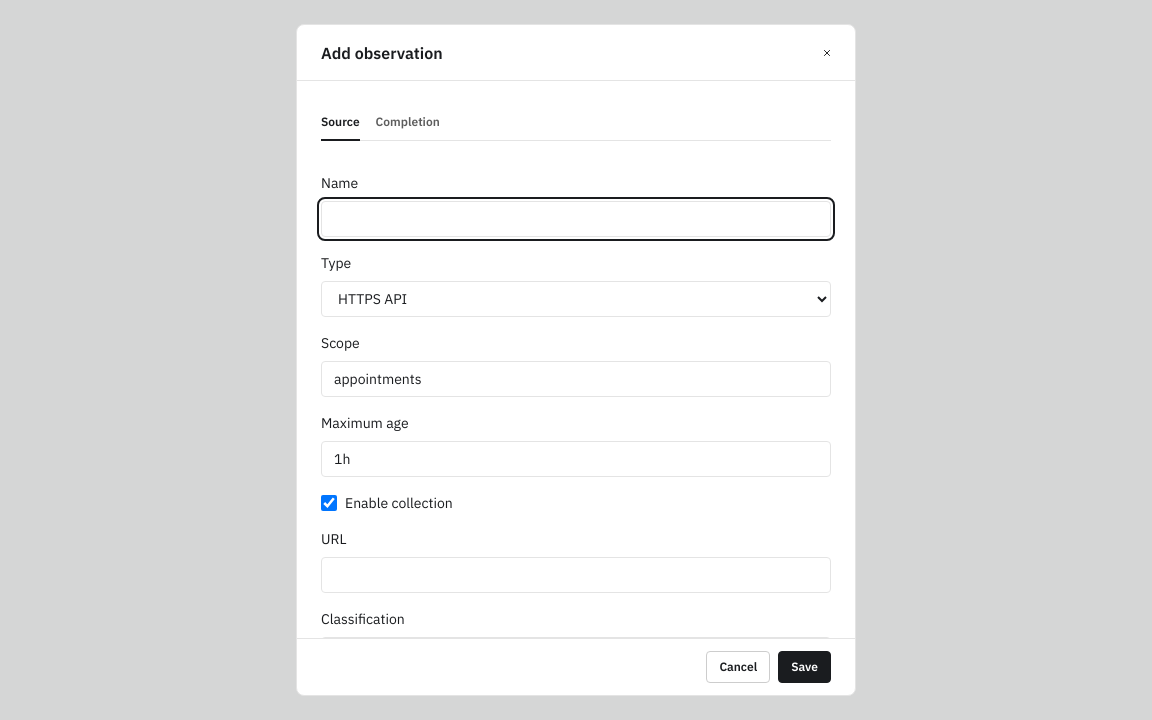
it: an HTTP JSON observation selects its page continuation from a local schema sample and keeps the full projection after refusal
Type "HTTP appointments" into the field labelled "Name".
click(576, 219); type("HTTP appointments")  # box [321,201,831,237]
(page scrolled)
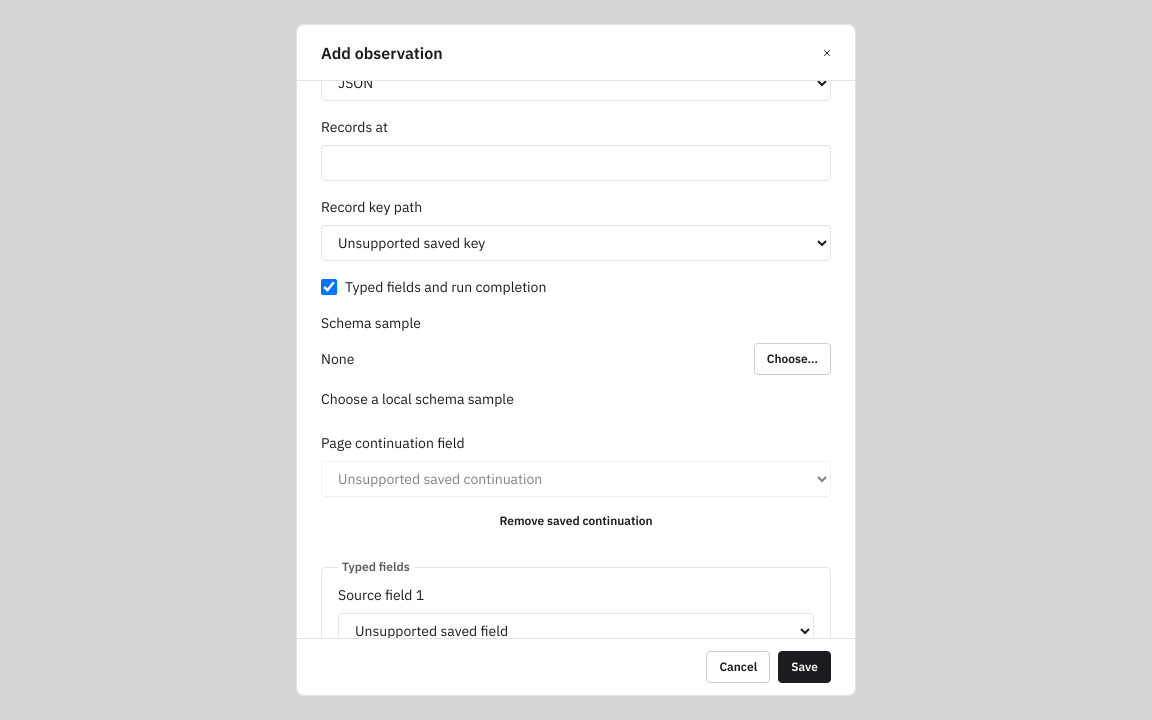
Now the dropdown labelled "Page continuation field" is shown, box [321,461,831,497]
Click the button with aria-label "Choose schema sample".
click(792, 359)  # box [754,343,831,375]
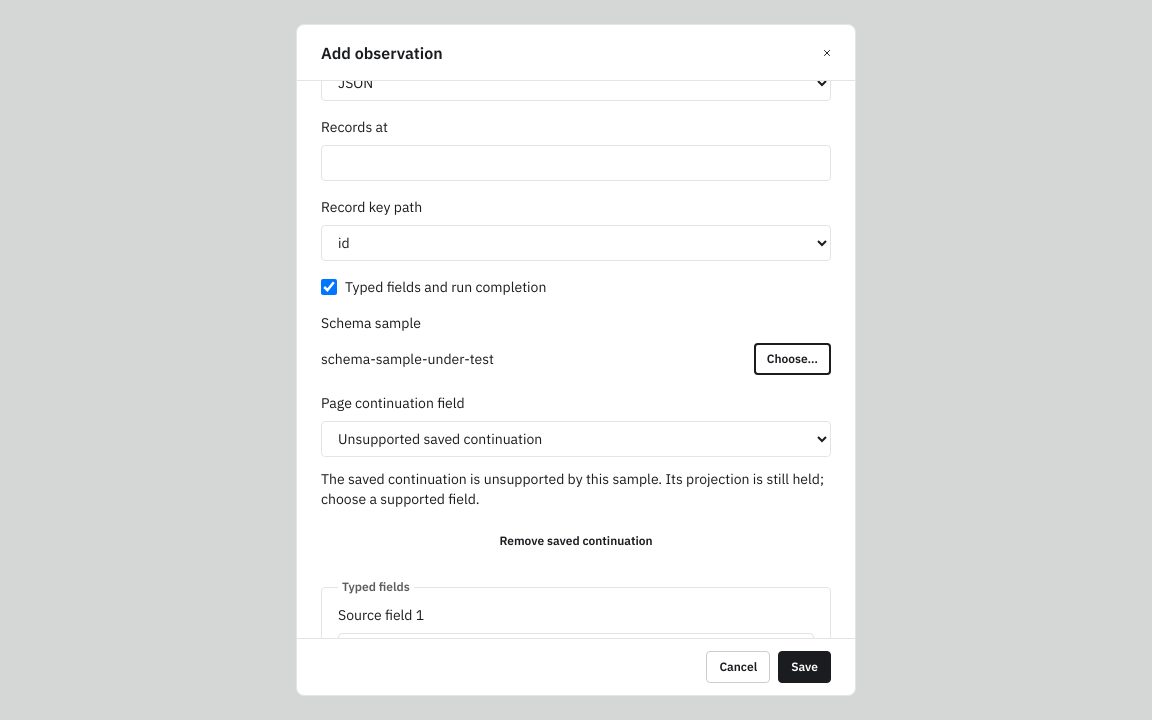
Expected: the option "next.with.dots" is not shown
Select "next.with.dots" in the dropdown labelled "Page continuation field" at (576, 439), box [321,421,831,457]
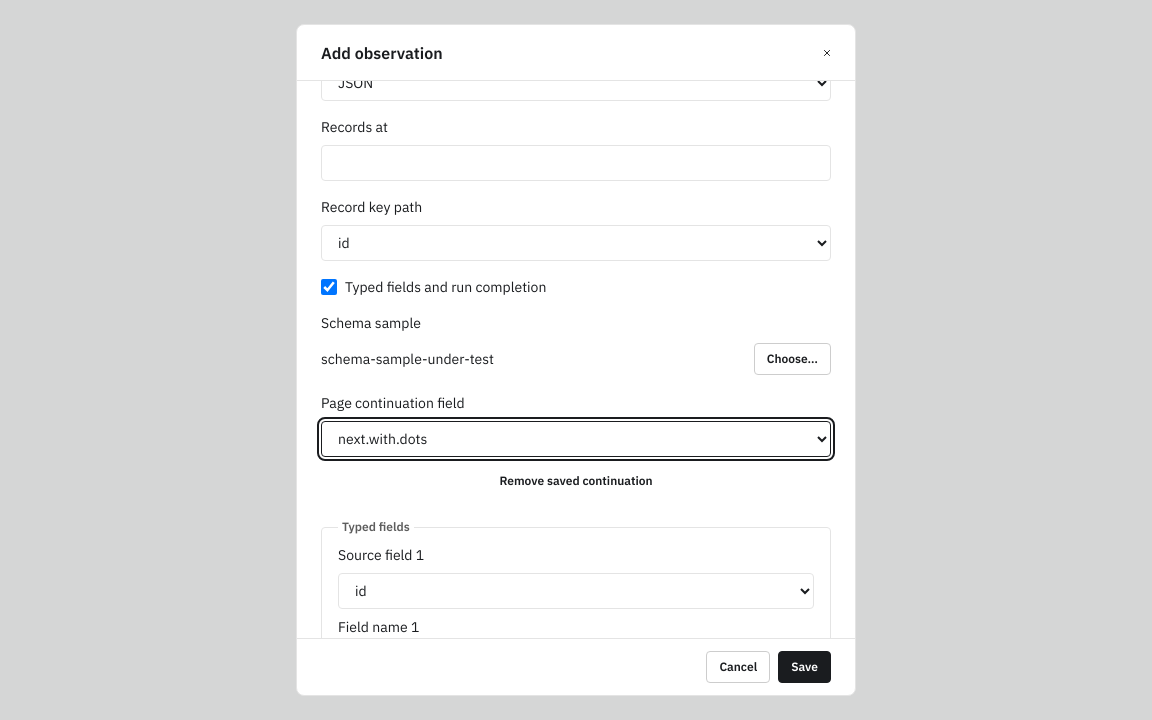
Click the button "Save".
click(805, 667)  # box [778,651,831,683]
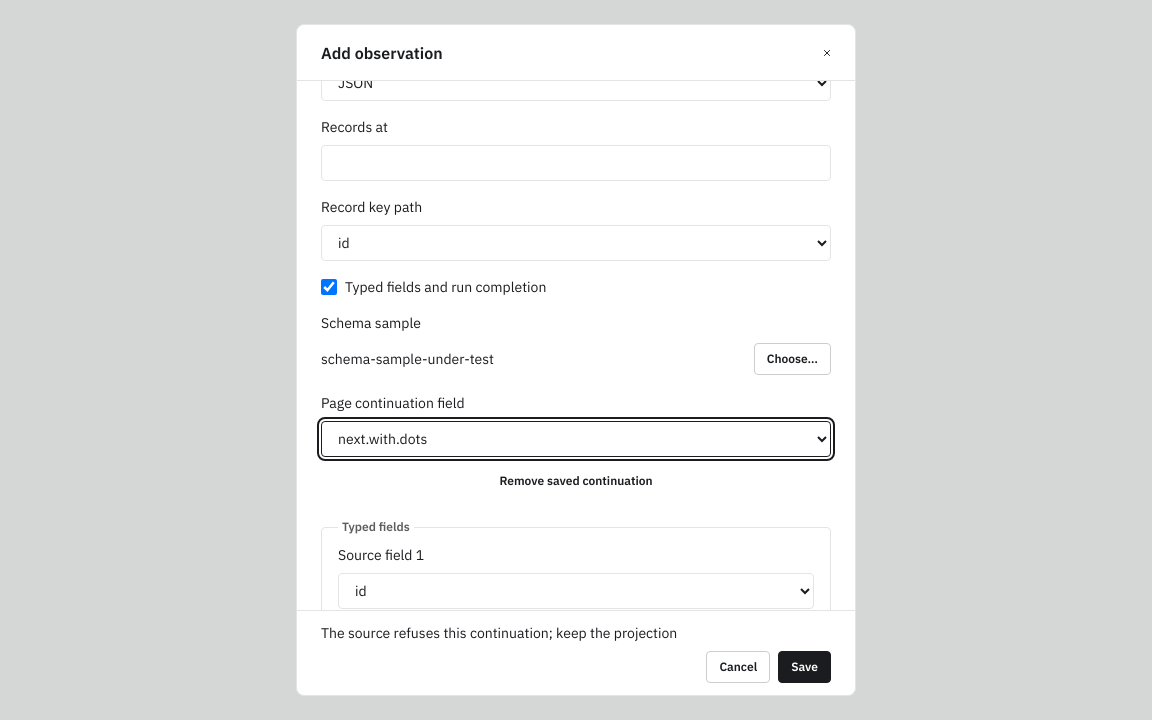
Now the text "The source refuses this continuation; keep the projection" is shown, box [321,624,677,642]
